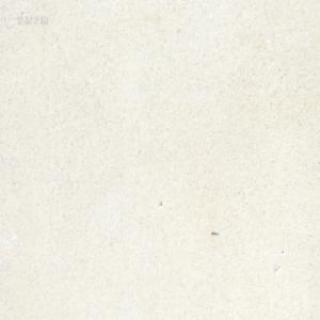Nailtrack_idkeyframe: (210, 229, 218, 235)
